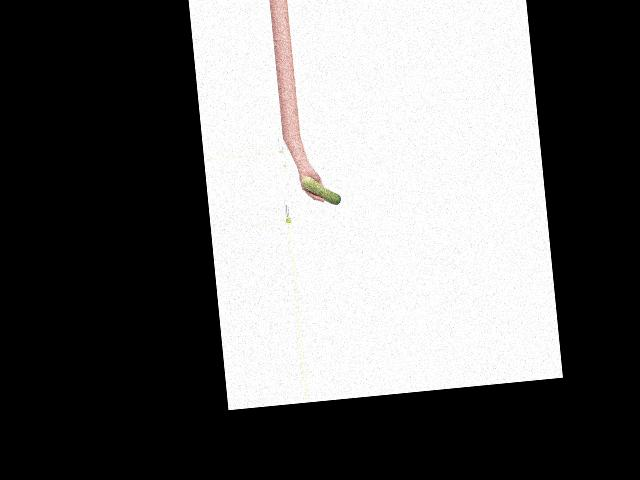cucumber: (301, 173, 340, 207)
